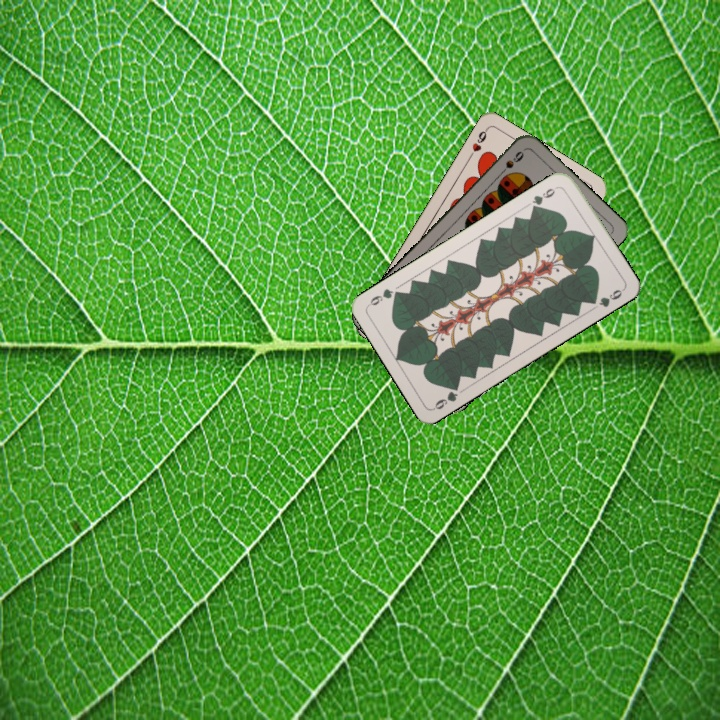G9: (430, 380, 462, 412), (528, 182, 561, 213)
H9: (465, 125, 490, 162)
S9: (494, 147, 527, 179)
